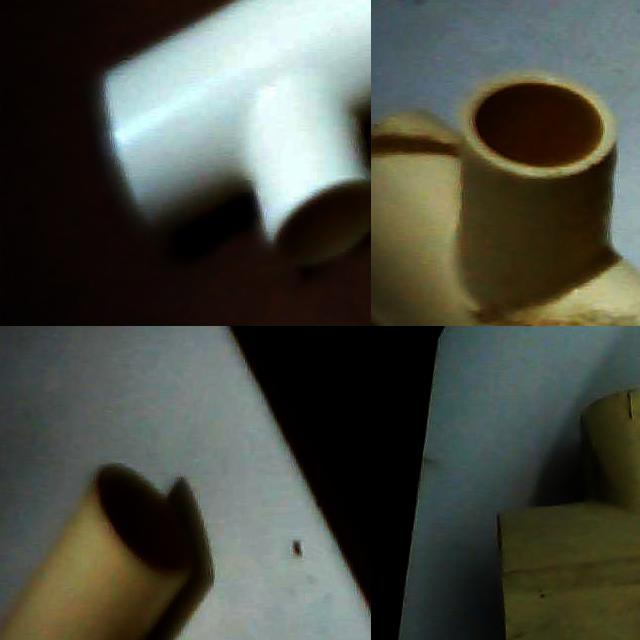Defective: (496, 390, 640, 640)
T Joint: (371, 72, 640, 326), (0, 465, 195, 640)
